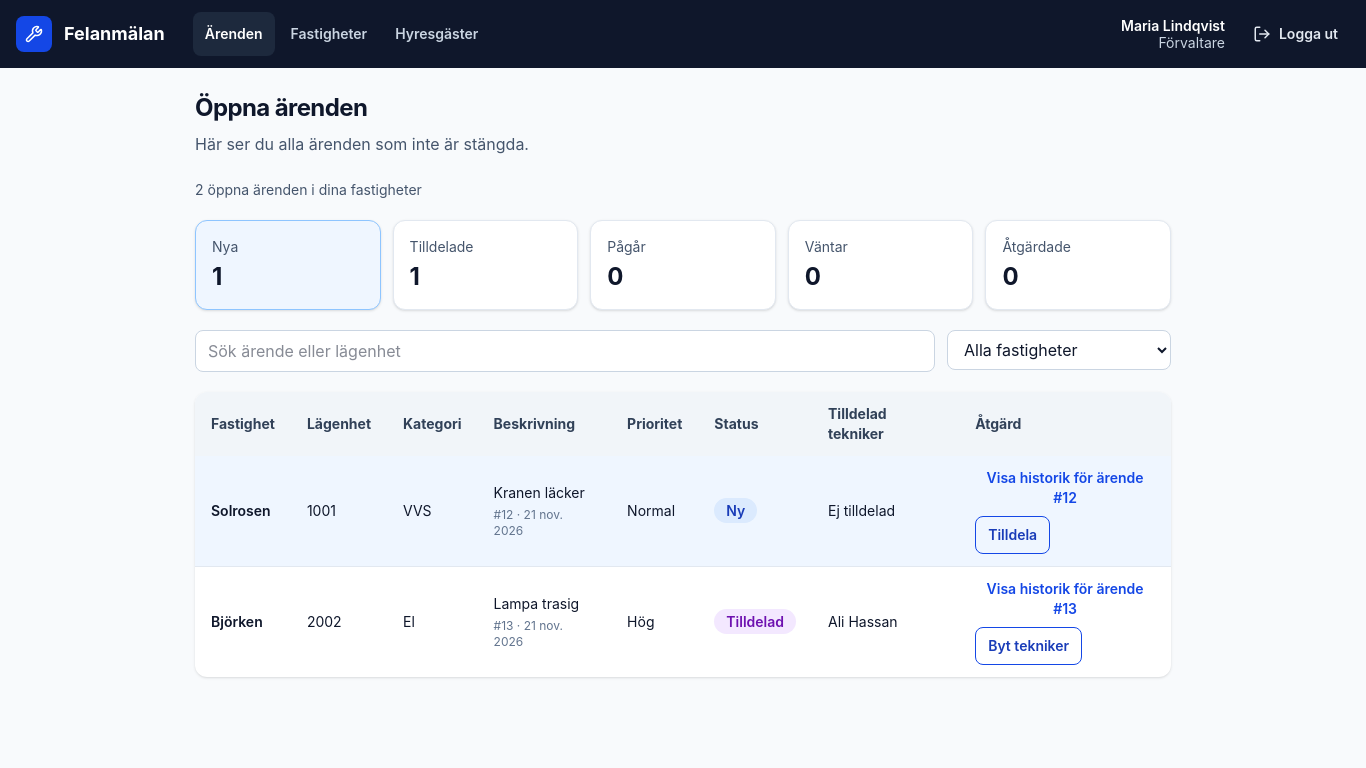
Test: ManagerOpenTickets › filtrerar på fastighet och söker efter ärenden
The image size is (1366, 768).
Expected: the text "Kranen läcker" is shown, x1=494 y1=483 x2=595 y2=503
Select "Björken" in the dropdown named "Filtrera fastighet" at (1059, 350), box x1=947 y1=330 x2=1171 y2=370
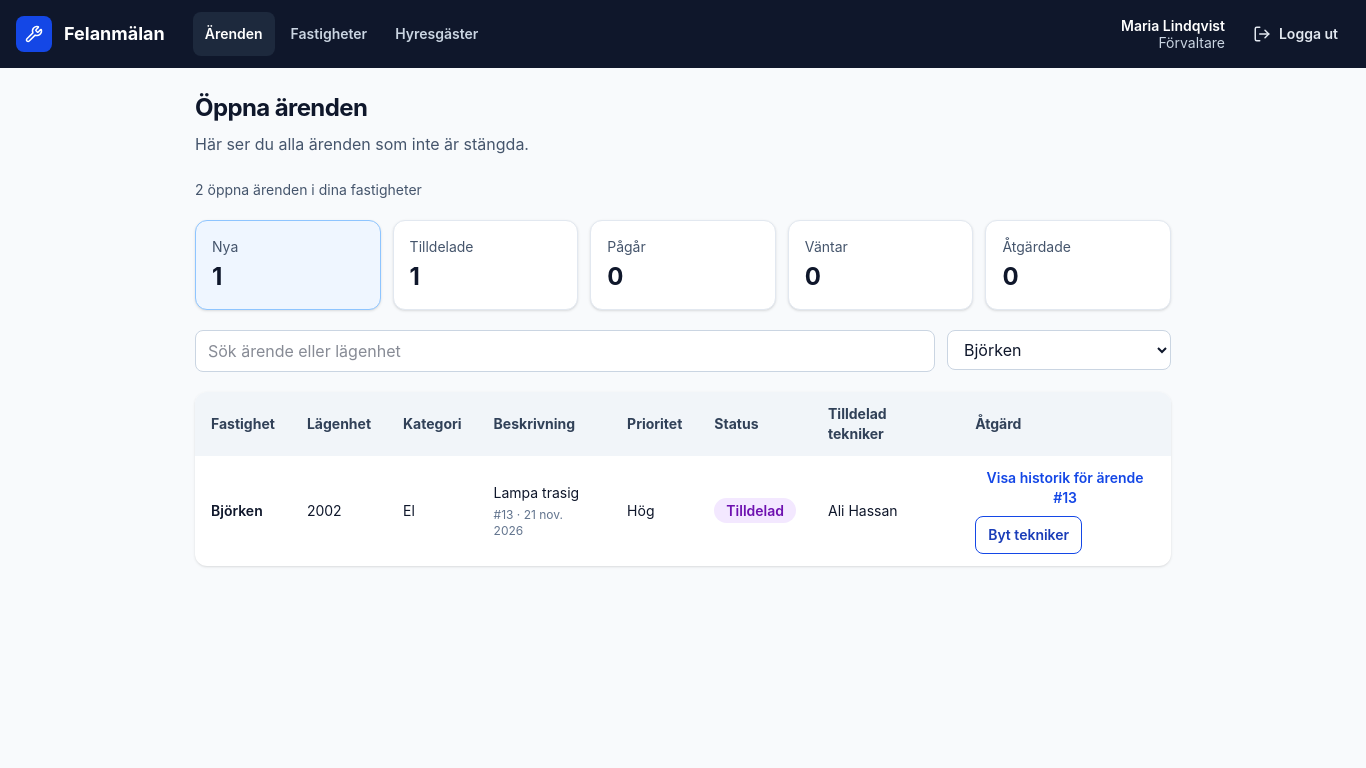
Expected: the text "Lampa trasig" is shown, x1=494 y1=484 x2=579 y2=501
Now the text "Kranen läcker" is gone
Select "Alla fastigheter" in the dropdown named "Filtrera fastighet" at (1059, 350), box x1=947 y1=330 x2=1171 y2=370
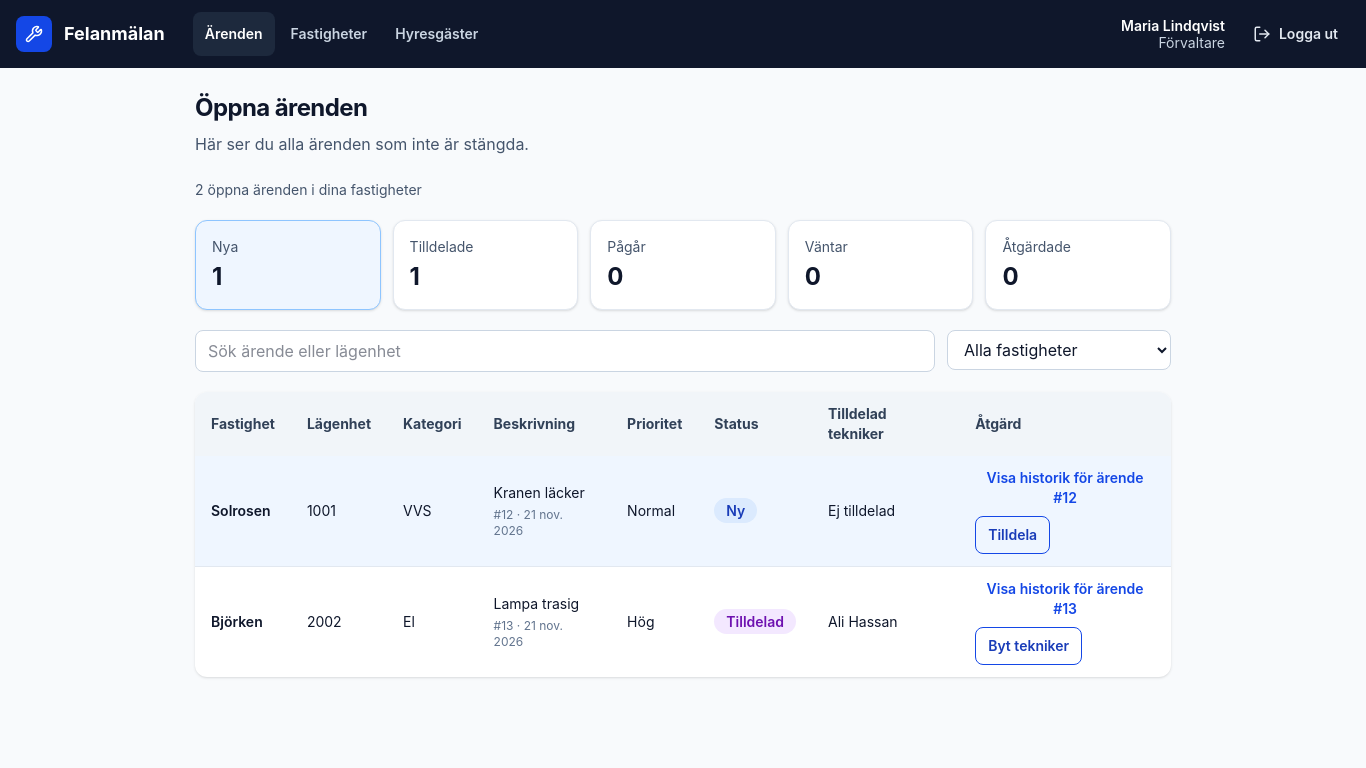
Type "kranen" into the search field named "Sök ärenden".
click(565, 351); type("kranen")  # box x1=195 y1=330 x2=935 y2=372
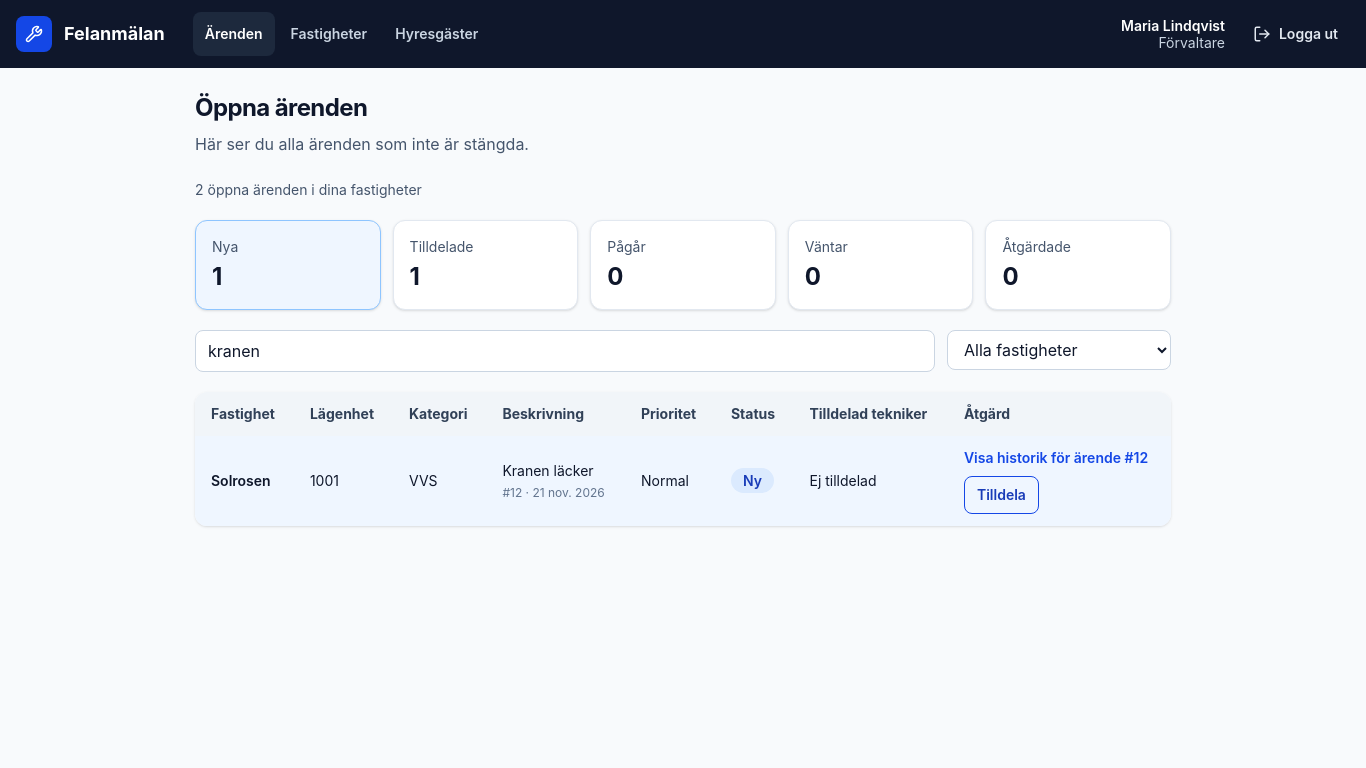
Now the text "Kranen läcker" is shown, box x1=502 y1=461 x2=609 y2=481
Now the text "Lampa trasig" is gone
